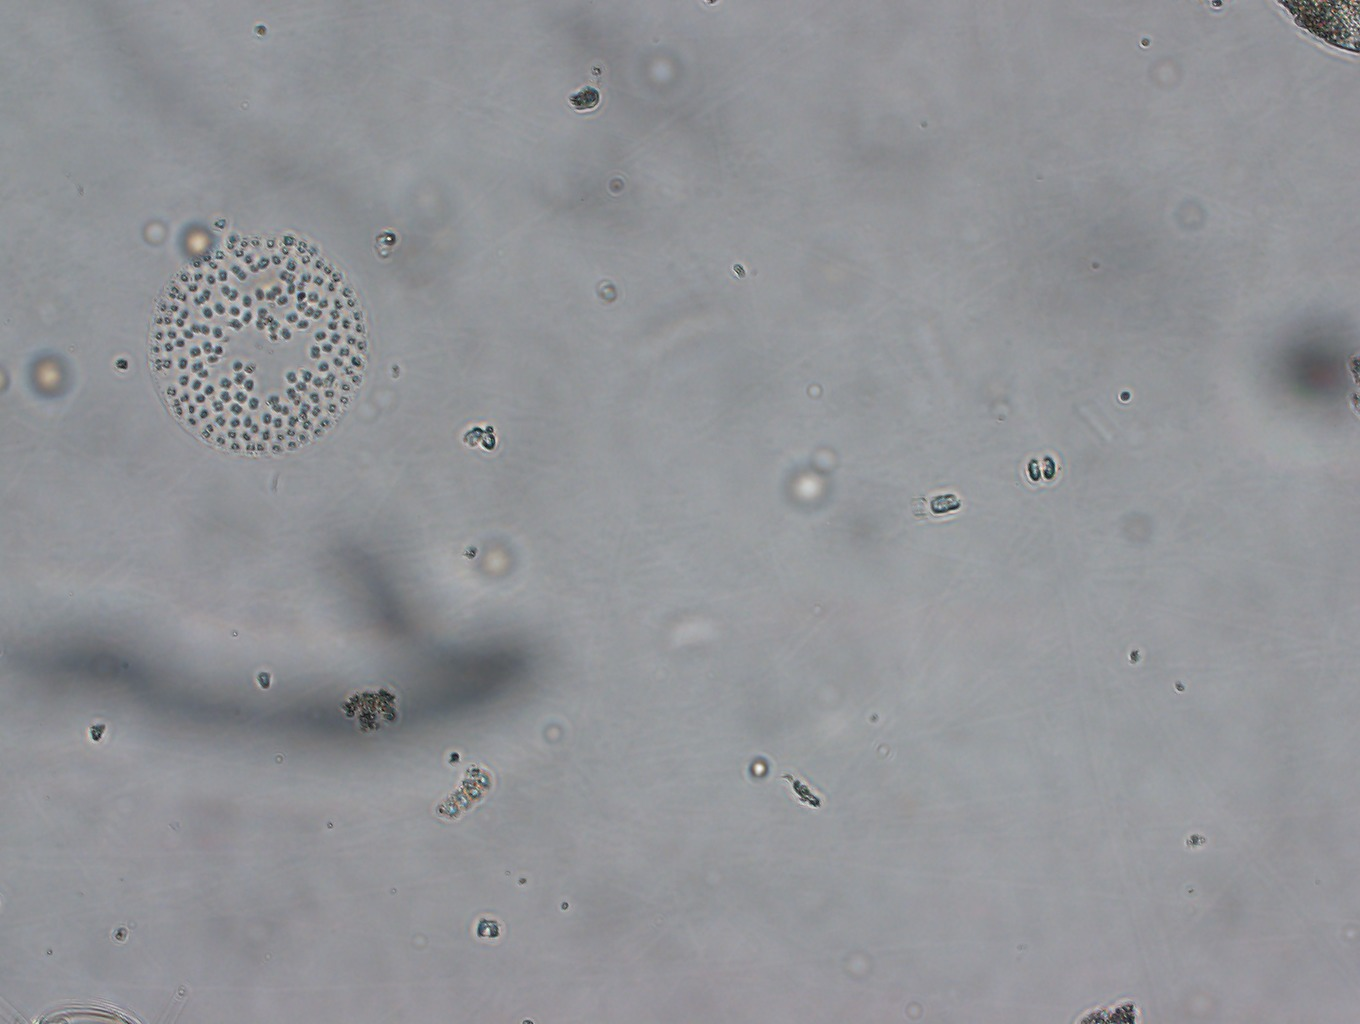coscinodiscus: (141, 225, 372, 463)
